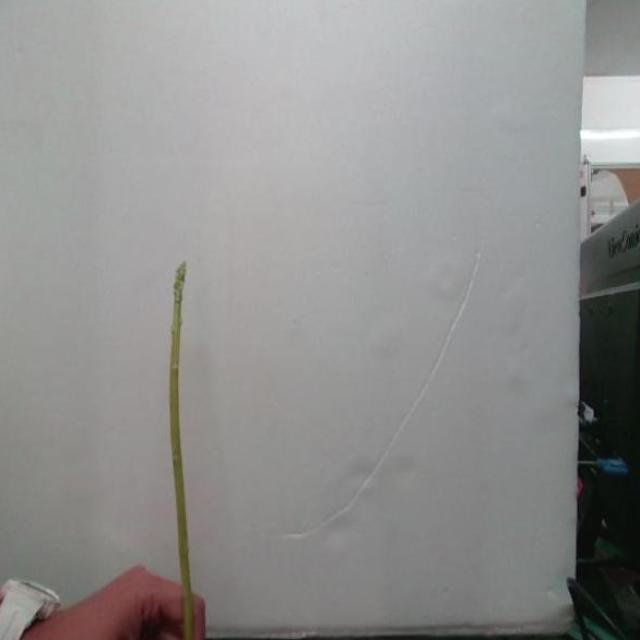aspargus: (169, 263, 199, 640)
